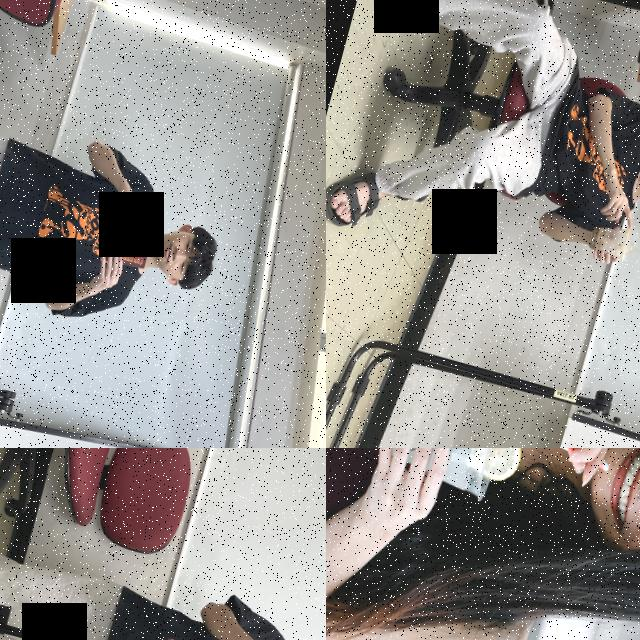cup: (356, 448, 522, 506), (586, 216, 634, 265)
